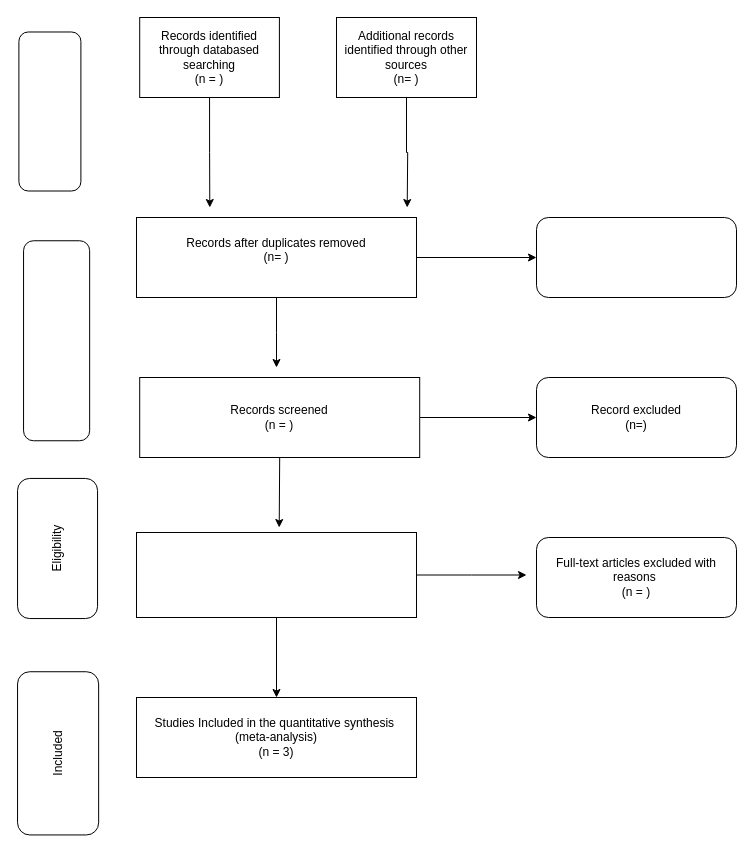
The diagram is 754 pixels wide and 853 high, and some of its shapes have lost their labels. The centre of each missing label's shape, as x and y in pixels:
"Full-text articles assessed for eligibility (n = )" goes at pixel 276 575.
"Identification" goes at pixel 49 111.
"Irrelevant article removed (n = )" goes at pixel 636 257.
"Screening" goes at pixel 56 340.
